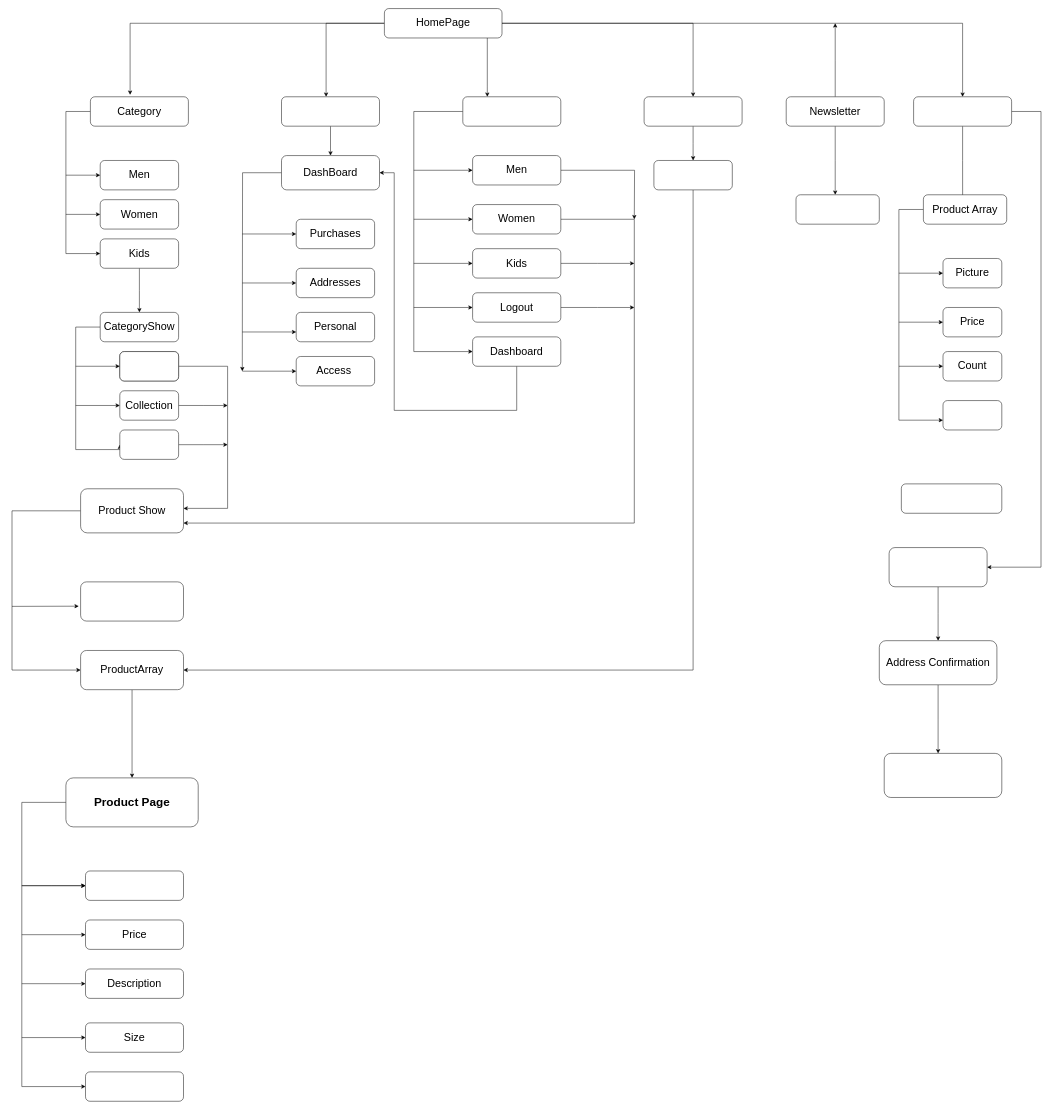
Some shapes in this 1054 by 1110 pixel diagram are drawn without their labels. The box of each missing label's shape, as (x1, y1, x2, y2) in pixels:
Add To Cart: (85, 1071, 184, 1101)
Cart: (913, 96, 1012, 126)
Continue: (889, 547, 987, 587)
Delete: (943, 400, 1002, 430)
Email Input: (796, 194, 879, 224)
Name: (85, 870, 184, 900)
Navigation: (462, 96, 561, 126)
New-In: (119, 351, 179, 381)
Product Displays: (80, 581, 184, 621)
Search: (644, 96, 742, 126)
Search Input: (653, 160, 732, 190)
Shoes: (119, 429, 179, 459)
Stripe Payment: (884, 753, 1002, 797)
Total: (901, 483, 1002, 513)
User: (281, 96, 380, 126)
